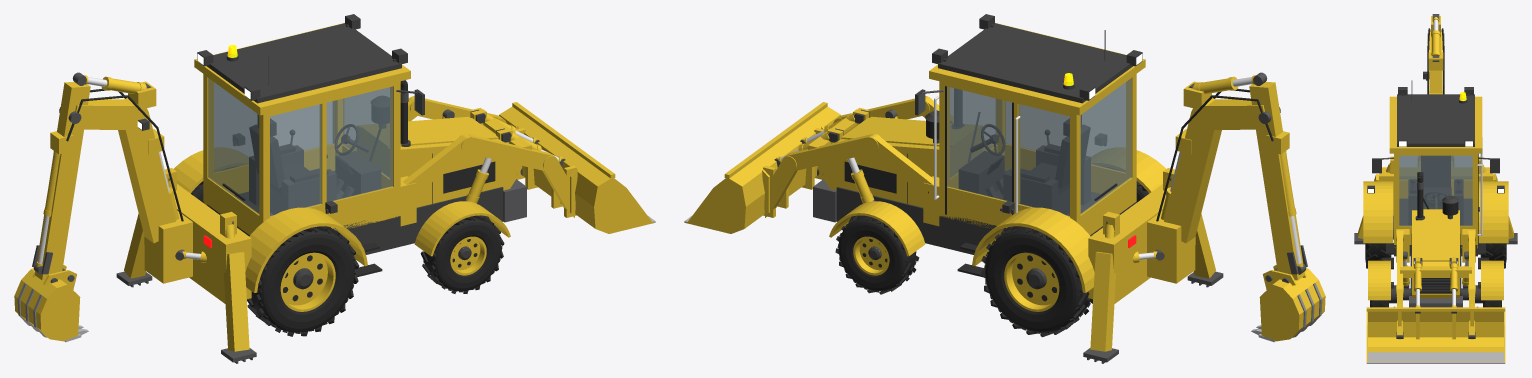
File: backhoe_loader.glb
The picture shows the model from 3 angles, left to right: view 1: azimuth 30°, elevation 25°; view 2: azimuth 150°, elevation 25°; view 3: azimuth 270°, elevation 25°; orthographic projection. The views are drawn at different scales.
Visible parts, largest first — view 1: cab, backhoe, chassis, wheel_rear_right, loader, loader_bucket, wheel_front_right, backhoe_bucket; view 2: cab, backhoe, chassis, wheel_rear_left, loader, loader_bucket, wheel_front_left, backhoe_bucket; view 3: cab, chassis, loader_bucket, loader, backhoe, wheel_rear_right, wheel_rear_left, wheel_front_right, wheel_front_left.
Boxes of the visible parts, <box> form: cab: <box>194,14,424,276</box>; backhoe: <box>32,72,256,363</box>; chassis: <box>174,80,526,292</box>; wheel_rear_right: <box>247,226,359,336</box>; loader: <box>346,96,570,226</box>; loader_bucket: <box>499,102,655,233</box>; wheel_front_right: <box>420,215,504,293</box>; backhoe_bucket: <box>14,265,88,342</box>; cab: <box>915,14,1145,277</box>; backhoe: <box>1083,72,1307,363</box>; chassis: <box>813,89,1165,292</box>; wheel_rear_left: <box>980,226,1092,337</box>; loader: <box>769,96,993,226</box>; loader_bucket: <box>684,102,840,233</box>; wheel_front_left: <box>835,215,919,294</box>; backhoe_bucket: <box>1251,265,1325,342</box>; cab: <box>1372,80,1499,269</box>; chassis: <box>1363,172,1508,307</box>; loader_bucket: <box>1366,304,1505,363</box>; loader: <box>1396,229,1475,338</box>; backhoe: <box>1354,14,1517,244</box>; wheel_rear_right: <box>1365,243,1391,268</box>; wheel_rear_left: <box>1480,243,1506,268</box>; wheel_front_right: <box>1370,300,1388,307</box>; wheel_front_left: <box>1483,300,1501,307</box>.
Size of the model in its own units: 7.82 by 3.49 by 2.72.
